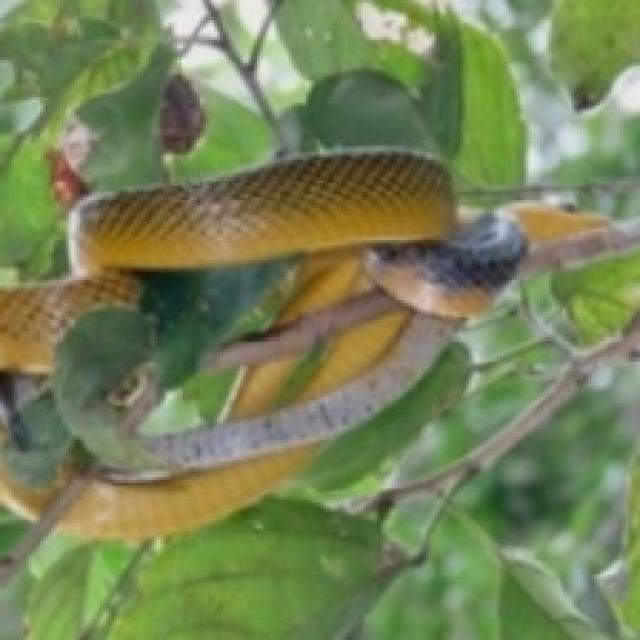red-tailed green ratsnake: (0, 151, 634, 491)
